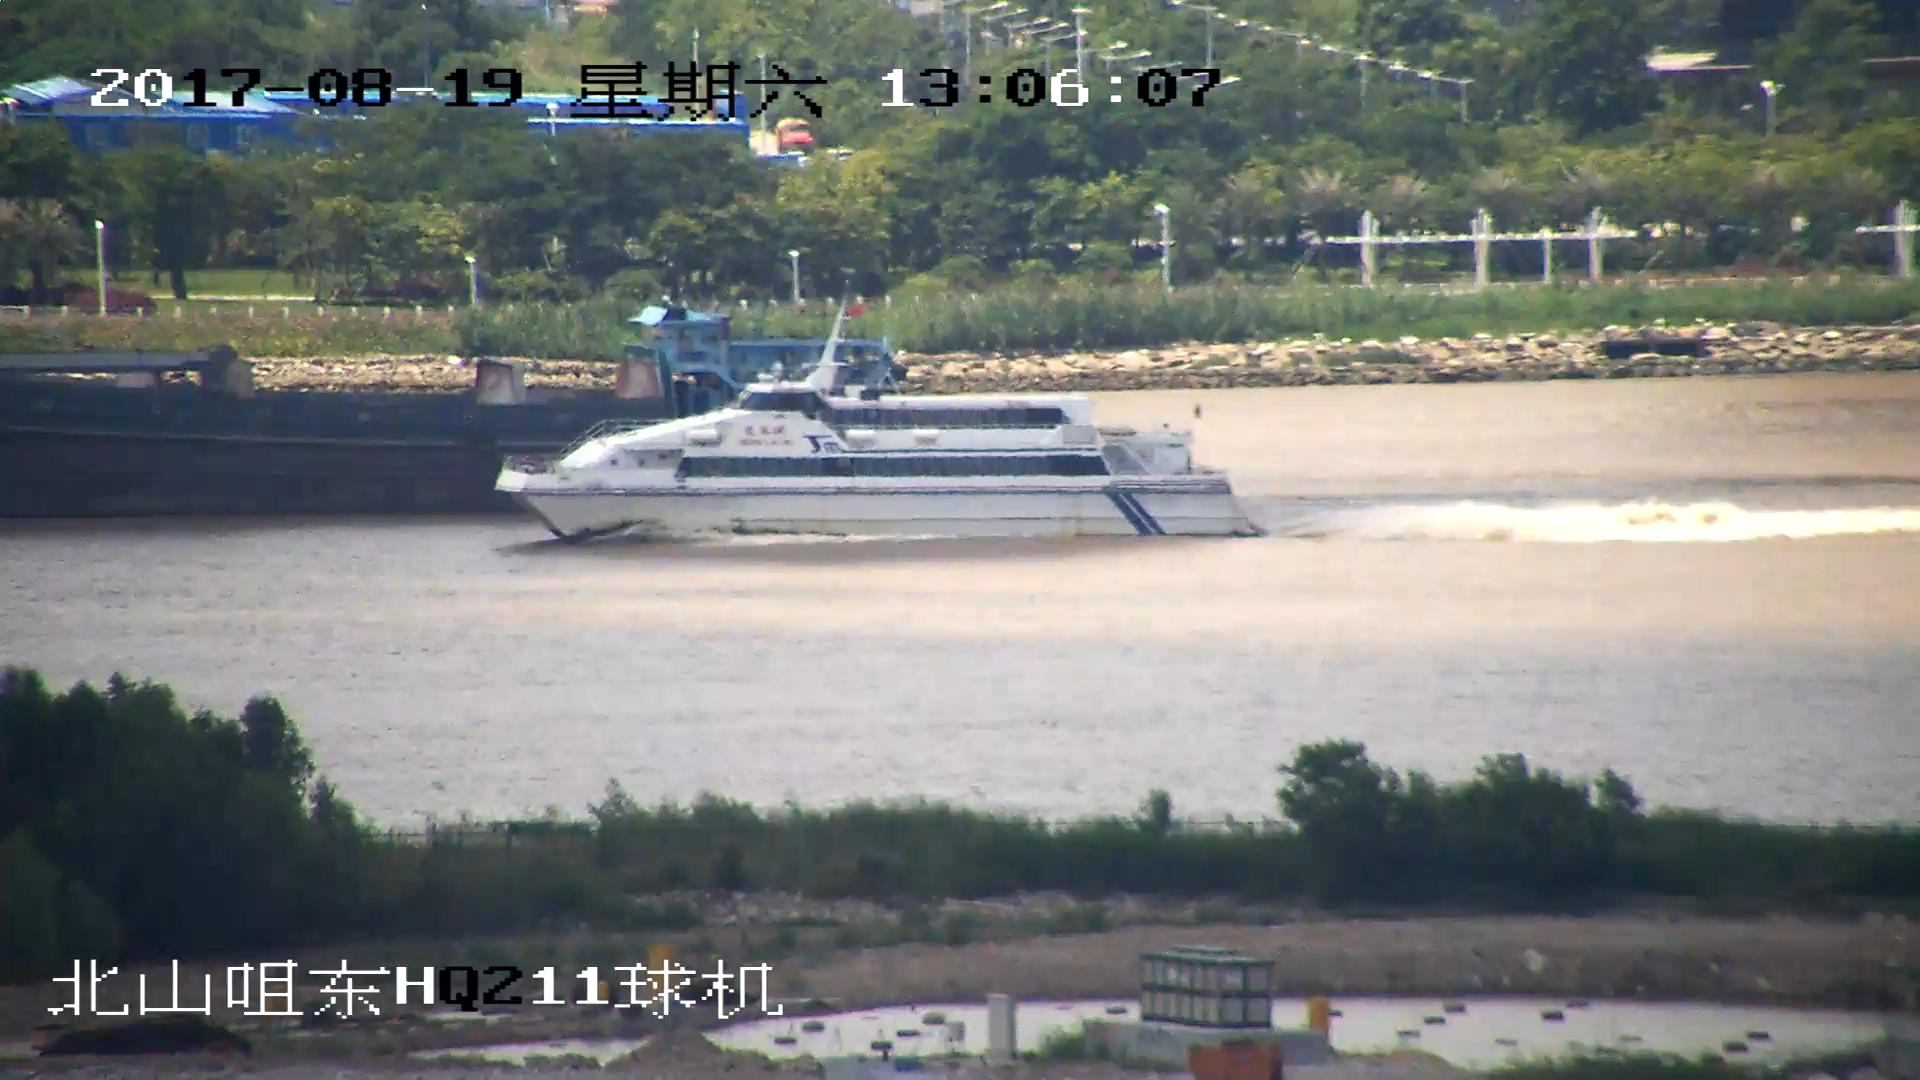bulk cargo carrier: (1, 299, 900, 516)
passenger ship: (498, 296, 1262, 545)
